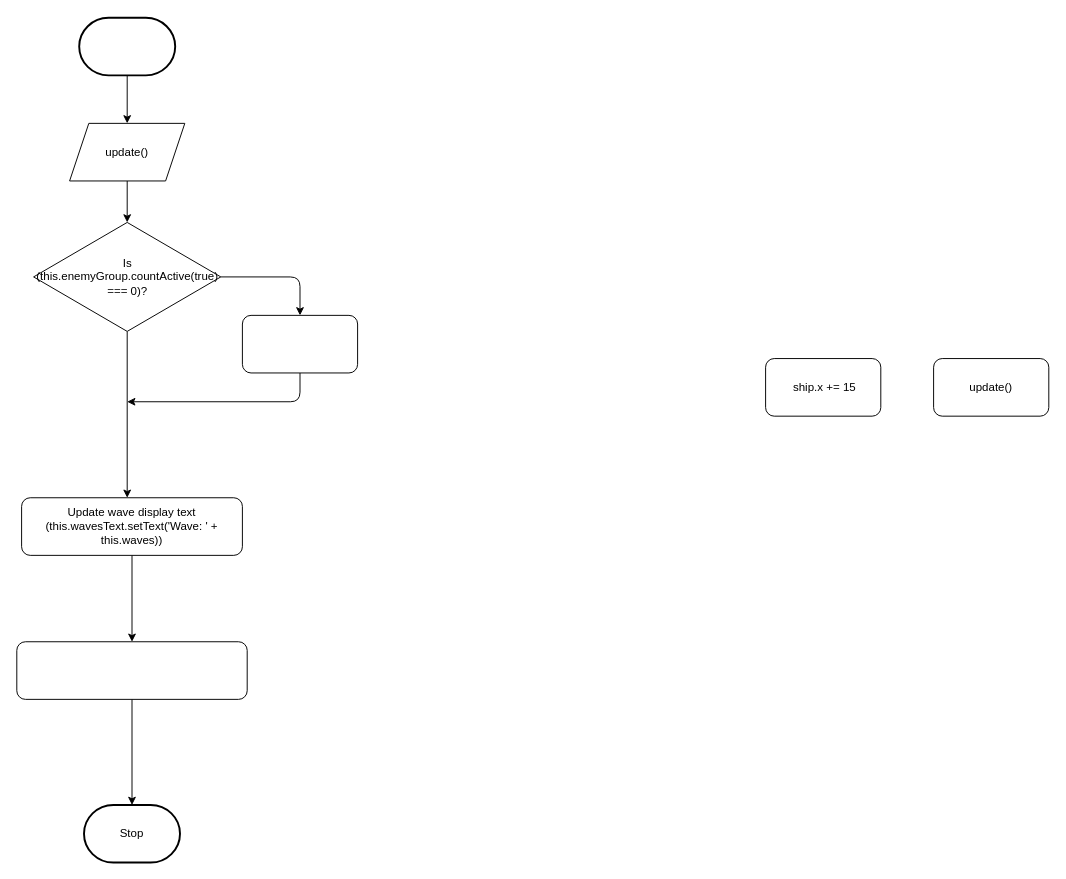
Image size: 1066x879. Some labels were removed from this diagram. The centre of each missing label's shape, as x and y in pixels:
Increase waves by 1 (waves = waves + 1): (299,343)
Spawn new wave with current waves count (this.spawnWave(this.waves)): (131,670)
Start: (127,46)
